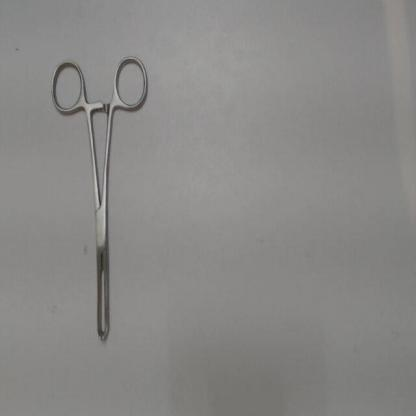Allis Tissue Forceps: (46, 50, 160, 359)
